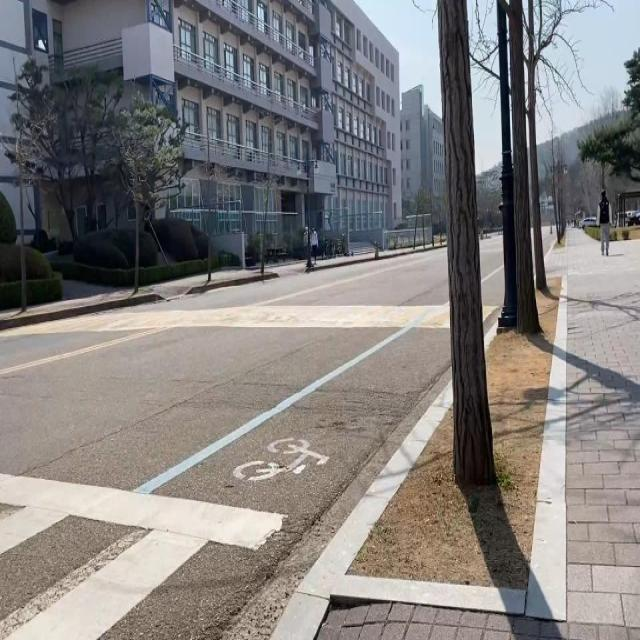sidewalk: (319, 229, 640, 639)
